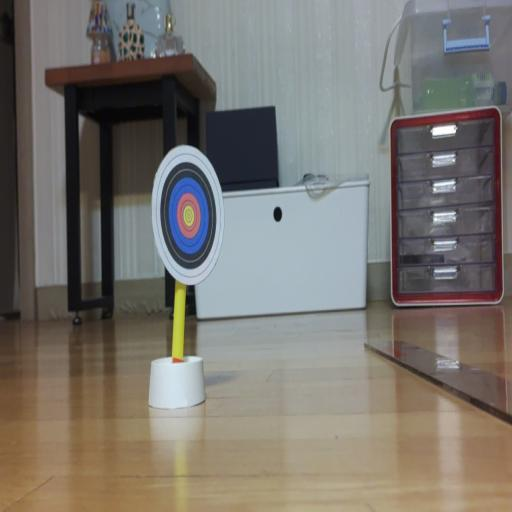target: (152, 145, 224, 291)
